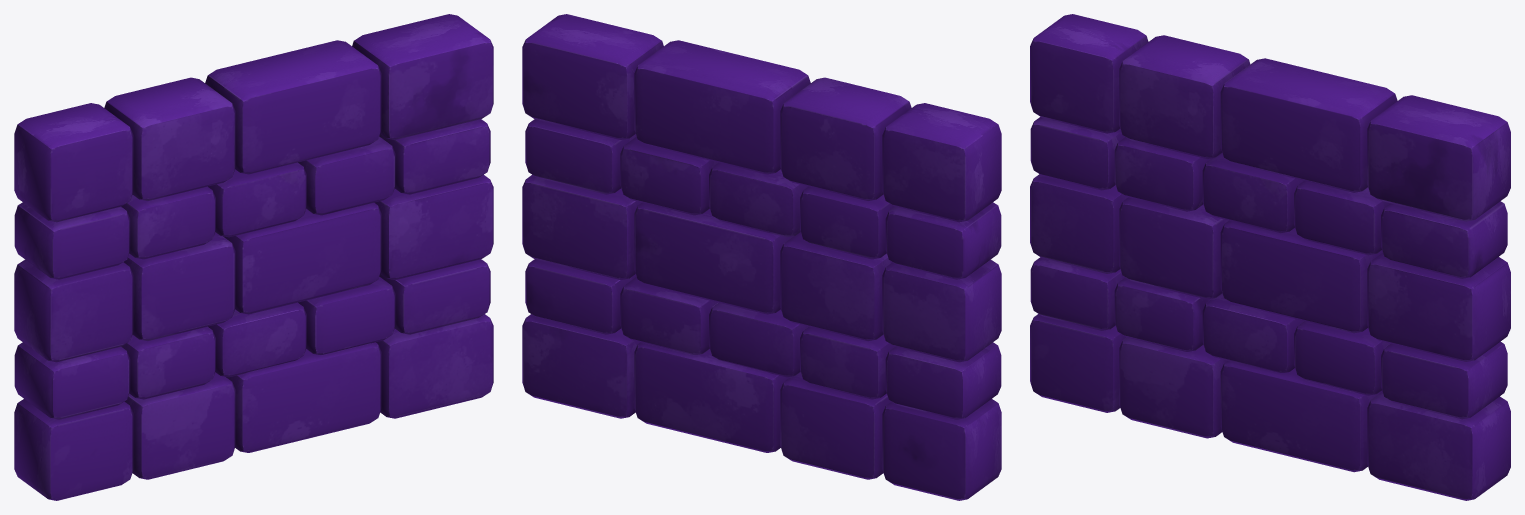
The model's file is Shirine_Plataform.fbx.
3 views of the same model, side by side, from view 1: azimuth 30°, elevation 25°; view 2: azimuth 150°, elevation 25°; view 3: azimuth 330°, elevation 25° (orthographic).
Parts seen in each view (by area): view 1: Wall.229; view 2: Wall.229; view 3: Wall.229.
Boxes of the visible parts, x1,y1,x2,y2 form: Wall.229: (14,14,493,500); Wall.229: (522,14,1001,500); Wall.229: (1030,14,1510,500).
Bounding box in the file's own units: 623 × 480 × 96.34.
Materials: 1 (1 with a texture image).
